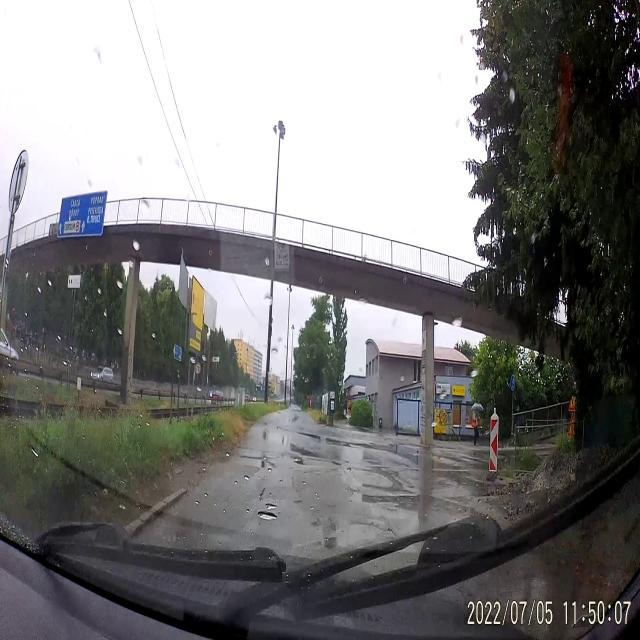Pothole: (336, 515, 389, 542), (240, 443, 276, 478)
